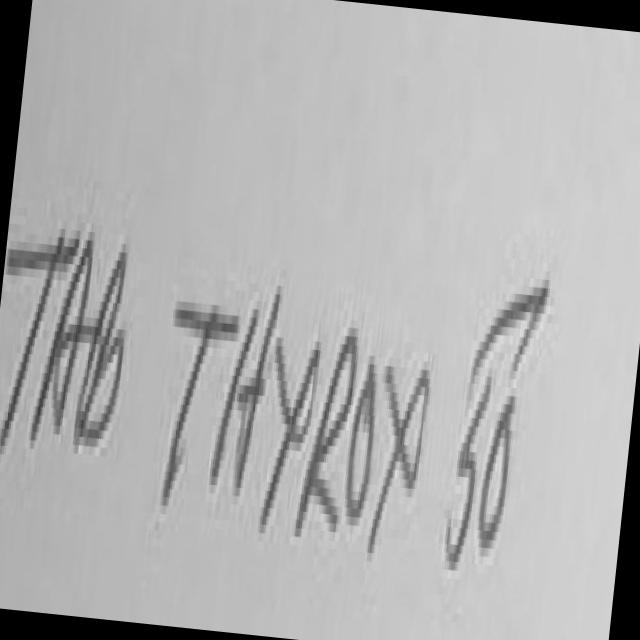0: (480, 396, 516, 544)
5: (448, 378, 489, 566), (476, 284, 550, 379)
A: (32, 232, 91, 436)
B: (75, 245, 124, 444)
H: (213, 285, 285, 518)
O: (348, 364, 377, 521)
R: (293, 337, 356, 540)
T: (0, 243, 79, 441), (162, 309, 238, 501)
X: (371, 350, 427, 549)
Y: (264, 337, 320, 529)
